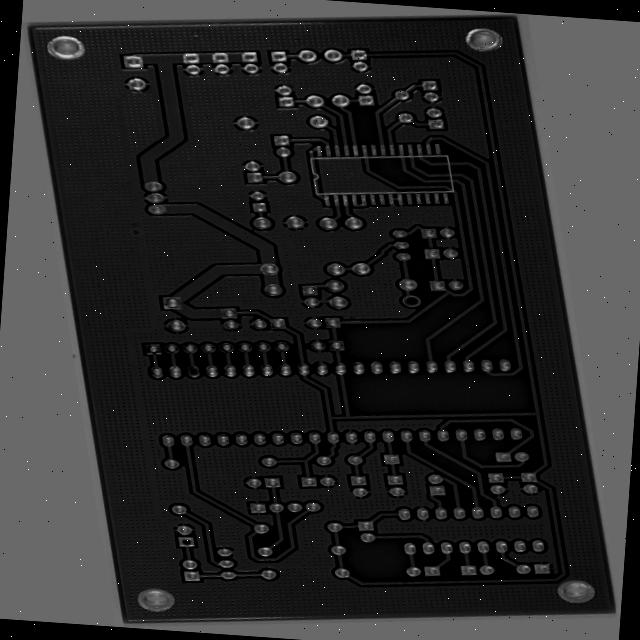missing_hole: (420, 300, 454, 319), (80, 527, 103, 544), (133, 353, 156, 367)
